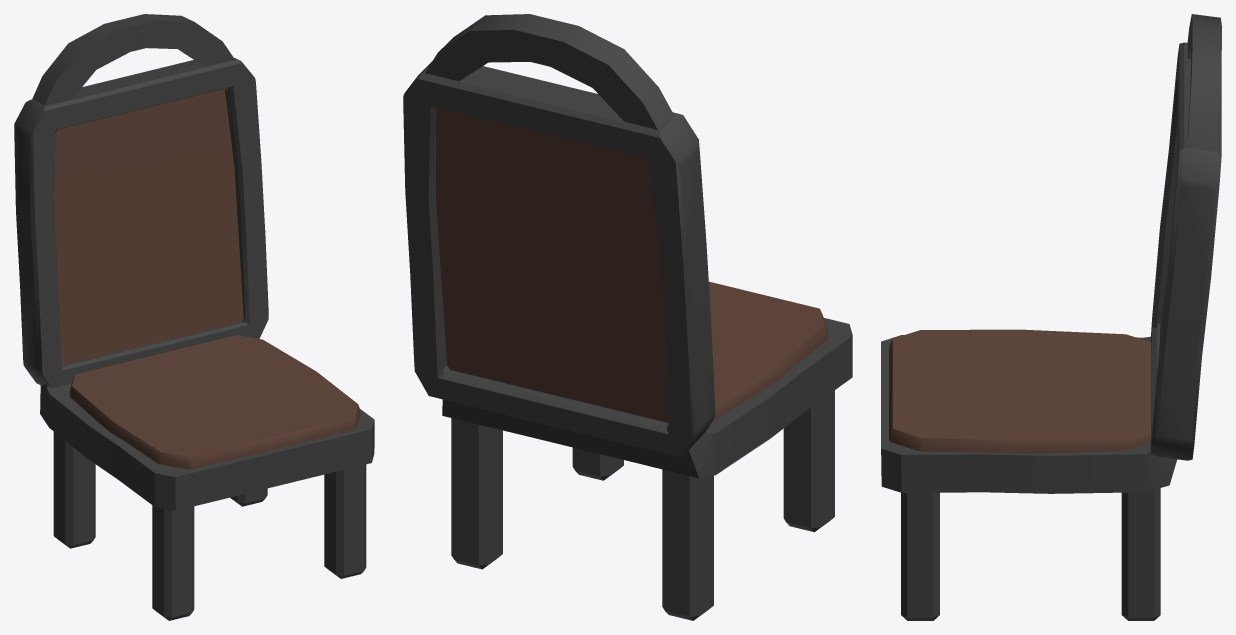
File: Chair_single.fbx
3 renders of one model, left to right at view 1: azimuth 30°, elevation 25°; view 2: azimuth 150°, elevation 25°; view 3: azimuth 270°, elevation 25°, orthographic. The views are drawn at different scales.
Visible parts, largest first — view 1: Chair_single; view 2: Chair_single; view 3: Chair_single.
Part boxes in pixels (left/top/right/bottom): Chair_single: left=14, top=14, right=374, bottom=620; Chair_single: left=403, top=14, right=852, bottom=620; Chair_single: left=881, top=14, right=1221, bottom=620.
Size of the model in its own units: 0.7411 by 1.47 by 0.8479.
